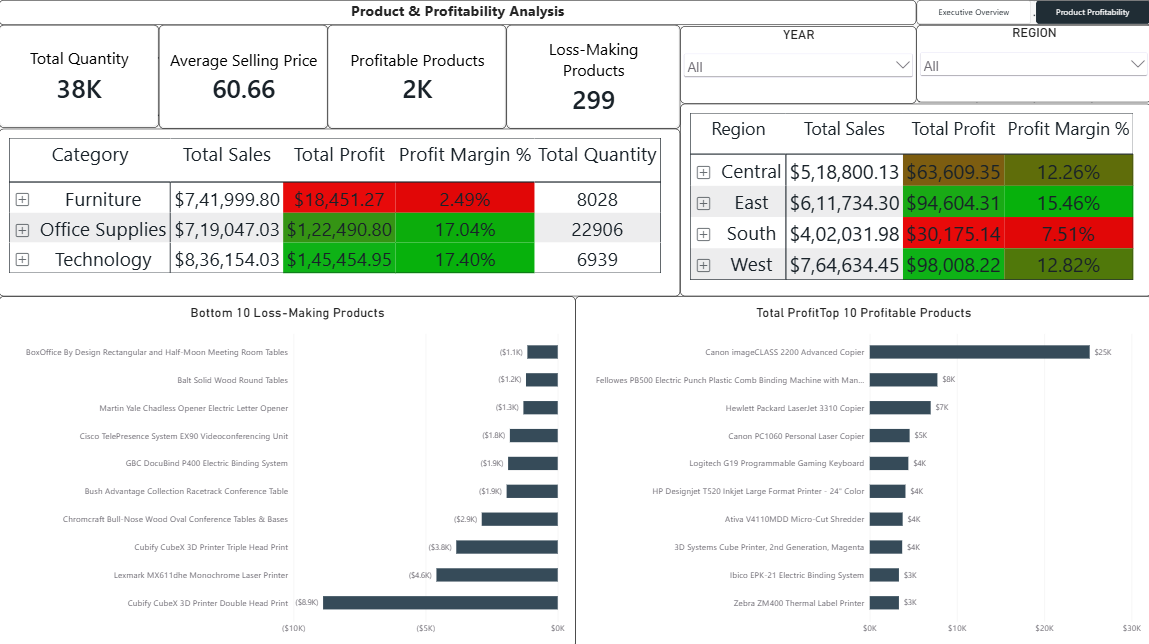

What the dashboard file says about the page in this screenshot:
{"tool":"powerbi","page":{"name":"Product Profitability","canvas":[1920,1080],"ordinal":1},"visuals":[{"type":"pivotTable","fields":{"Rows":["Dim_Customers.Region","Dim_Customers.State"],"Values":["_Measures.Total Sales","_Measures.Total Profit","_Measures.Profit Margin %"]},"box":[1135.4,172.9,785.4,320.8],"z":0},{"type":"clusteredBarChart","title":"Total ProfitTop 10 Profitable Products","fields":{"Category":["Dim_Products.Product Name"],"Y":["_Measures.Total Profit"]},"box":[960.4,493.8,960.4,585.4],"z":1000},{"type":"clusteredBarChart","title":"Bottom 10 Loss-Making Products","fields":{"Category":["Dim_Products.Product Name"],"Y":["_Measures.Total Profit"]},"box":[0,493.8,960.4,585.4],"z":2000},{"type":"cardVisual","fields":{"Data":["_Measures.Total Quantity"]},"box":[0,41.7,266.7,170.8],"z":3000},{"type":"cardVisual","fields":{"Data":["_Measures.Average Selling Price"]},"box":[266.7,41.7,281.2,172.9],"z":4000},{"type":"cardVisual","fields":{"Data":["_Measures.Profitable Products"]},"box":[547.9,41.7,297.9,172.9],"z":5000},{"type":"cardVisual","fields":{"Data":["_Measures.Loss-Making Products"]},"box":[845.8,41.7,289.6,172.9],"z":6000},{"type":"pivotTable","fields":{"Rows":["Dim_Products.Category","Dim_Products.Sub-Category","Dim_Products.Product Name"],"Values":["_Measures.Total Sales","_Measures.Total Profit","_Measures.Profit Margin %","_Measures.Total Quantity"]},"box":[0,214.6,1135.4,279.2],"z":6001},{"type":"textbox","box":[0,0,1529.2,41.7],"z":6002},{"type":"slicer","title":"YEAR","fields":{"Values":["Dim_Date.Year"]},"box":[1135.4,43.8,393.8,129.2],"z":6003},{"type":"slicer","title":"REGION","fields":{"Values":["Dim_Customers.Region"]},"box":[1529.2,41.7,391.7,129.2],"z":6004},{"type":"pageNavigator","box":[1529.2,0,391.7,41.7],"z":6005}]}

Visuals, with their boxes in screenshot pixels (x1, y1, x2, y2), scaled from the page's 1920x1080 canvas onto the 1149x644 screenshot:
pivotTable - Dim_Customers.Region x Dim_Customers.State: 679/103/1148/294
"Total ProfitTop 10 Profitable Products" clusteredBarChart: 575/294/1148/643
"Bottom 10 Loss-Making Products" clusteredBarChart: 0/294/575/643
cardVisual - _Measures.Total Quantity: 0/25/160/127
cardVisual - _Measures.Average Selling Price: 160/25/328/128
cardVisual - _Measures.Profitable Products: 328/25/506/128
cardVisual - _Measures.Loss-Making Products: 506/25/679/128
pivotTable - Dim_Products.Category x Dim_Products.Sub-Category: 0/128/679/294
textbox: 0/0/915/25
"YEAR" slicer: 679/26/915/103
"REGION" slicer: 915/25/1148/102
pageNavigator: 915/0/1148/25
